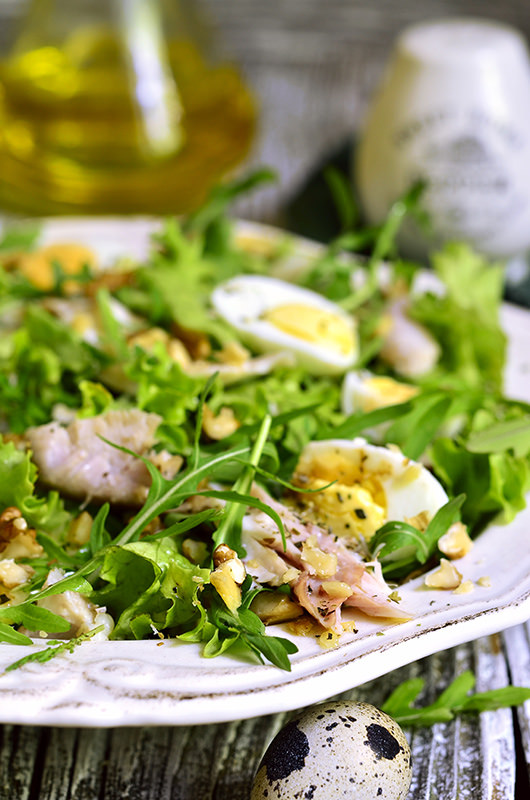chopped lettuce: (155, 367, 284, 607)
